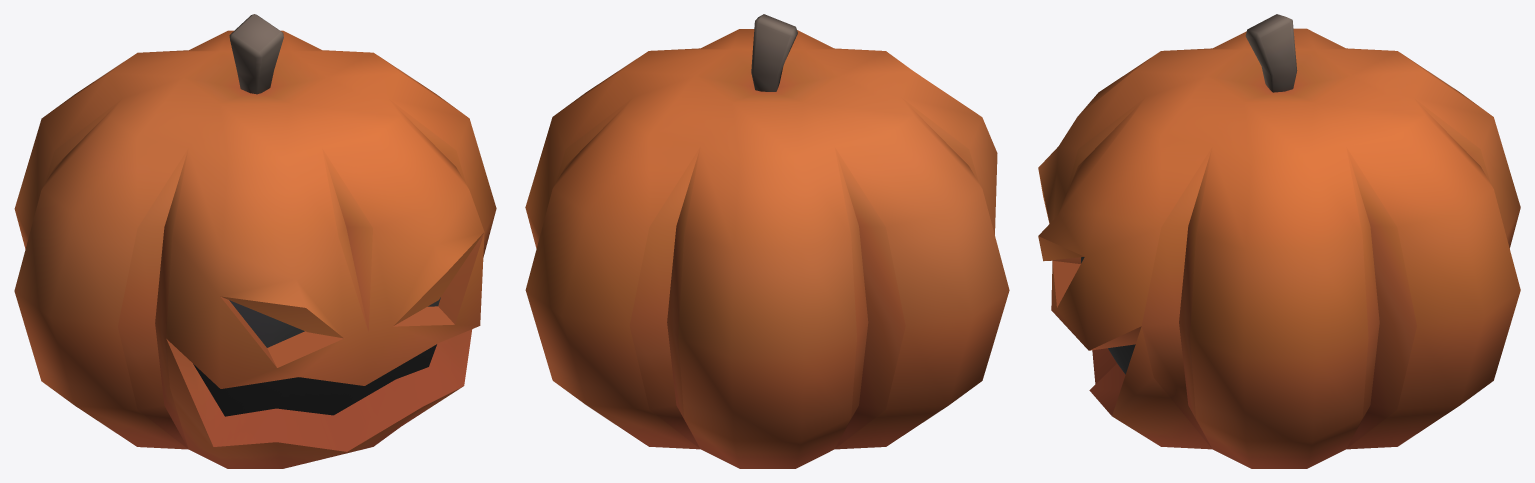
Rendered from pumpkin.glb.
3 views of the same model, side by side, from view 1: azimuth 30°, elevation 25°; view 2: azimuth 150°, elevation 25°; view 3: azimuth 270°, elevation 25° (orthographic).
Visible parts, largest first — view 1: pumpkin_orange_jackolantern; view 2: pumpkin_orange_jackolantern; view 3: pumpkin_orange_jackolantern.
Boxes of the visible parts, x1,y1,x2,y2 form: pumpkin_orange_jackolantern: (14, 14, 496, 468); pumpkin_orange_jackolantern: (525, 14, 1009, 468); pumpkin_orange_jackolantern: (1038, 14, 1520, 468).
Size of the model in its own units: 1.5 by 1.3 by 1.4.
1 material, 1 textured.
